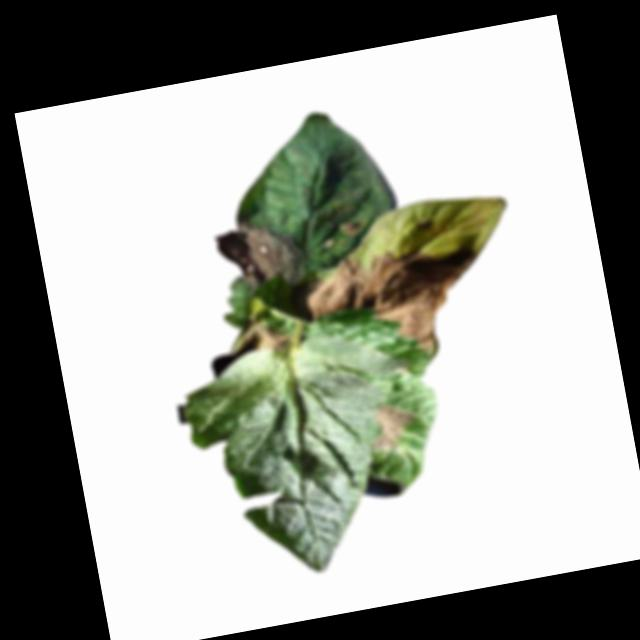Late_blight: (287, 235, 492, 373), (210, 215, 309, 304), (362, 399, 421, 454), (228, 317, 288, 356), (337, 219, 360, 242)
